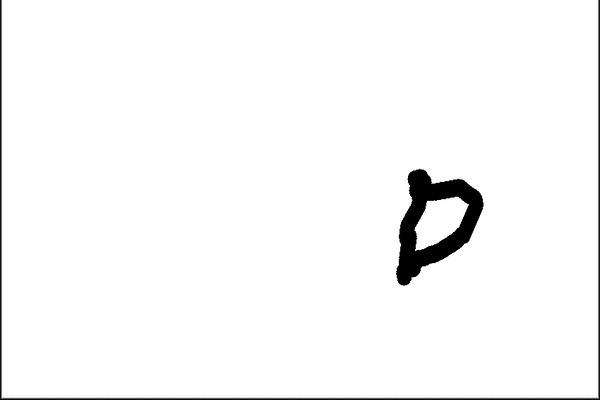D: (388, 165, 486, 288)
